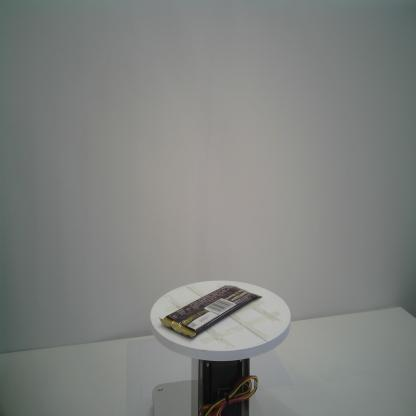Chocolate: (158, 284, 262, 340)
